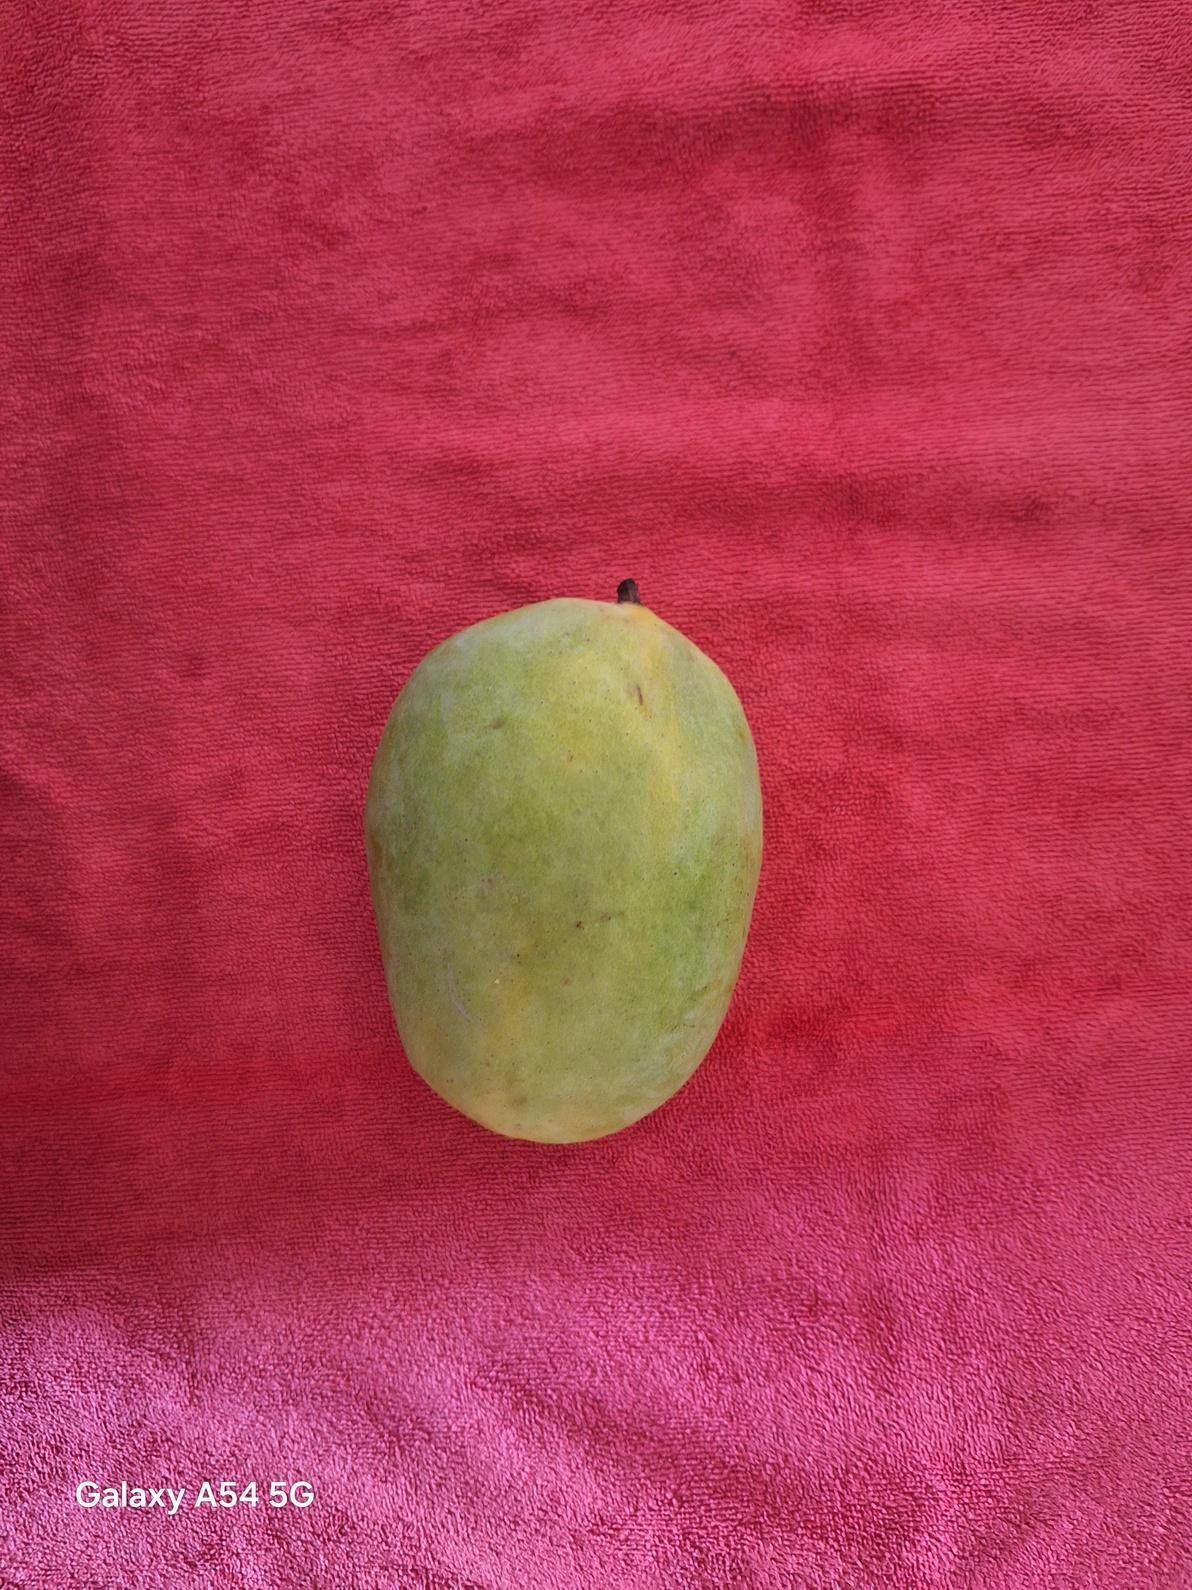mango: (362, 576, 764, 1144)
